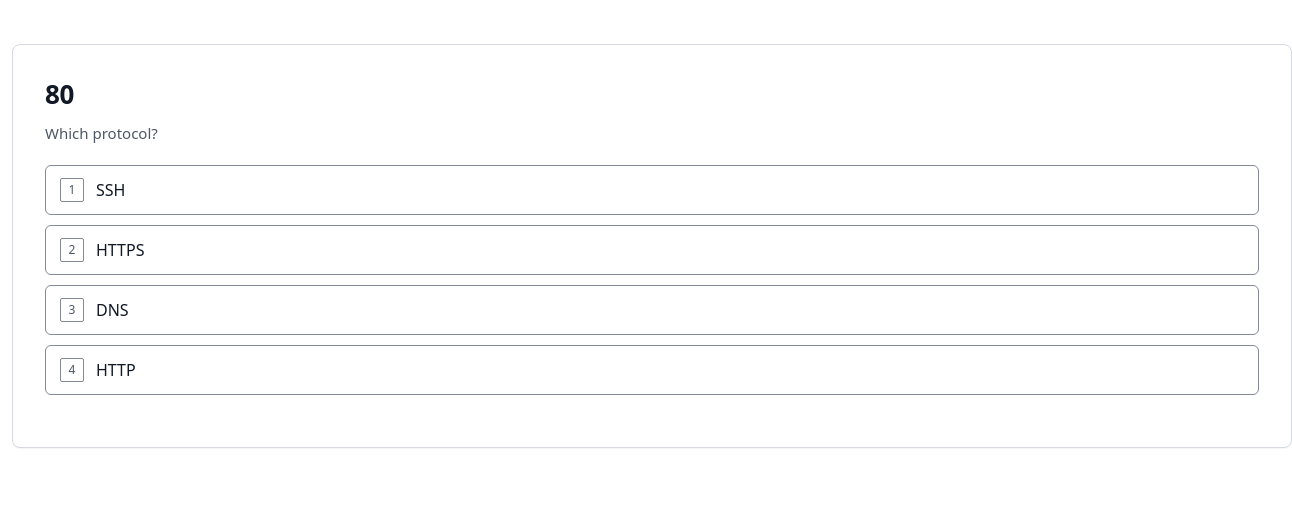
it: RecallPlayer, a choice of answers › counts correct answers in plain words, with no streak
Step 1. Click the button "4 HTTP" → (116, 370), box [45,345,1259,395]
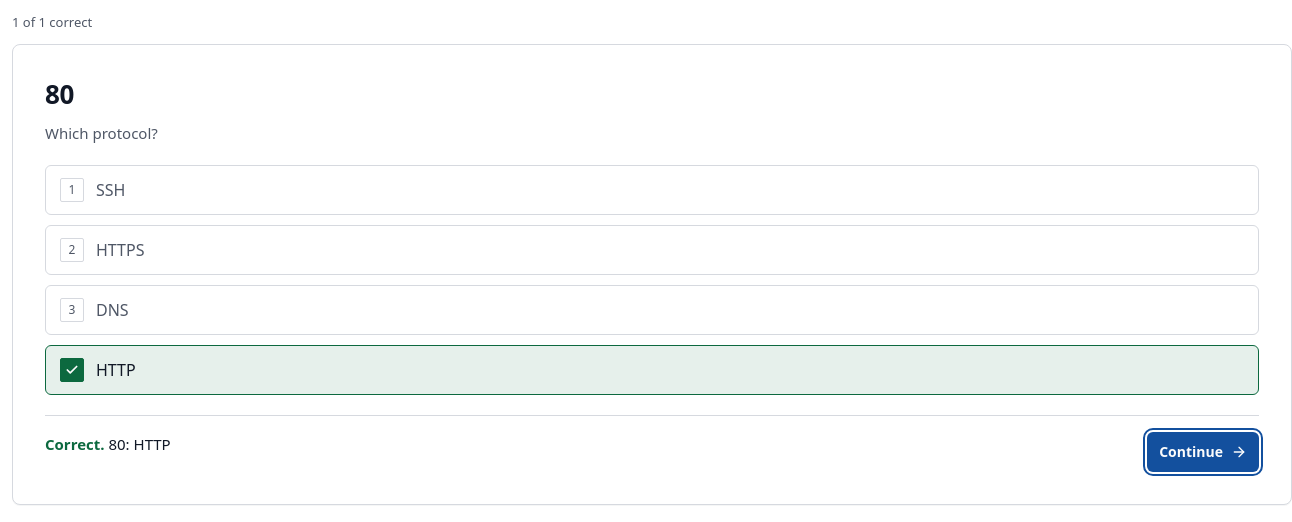
Now the text "1 of 1 correct" is shown, box [12,13,92,31]
Step 2. Click the button "Continue" → (1203, 452), box [1147,432,1259,472]
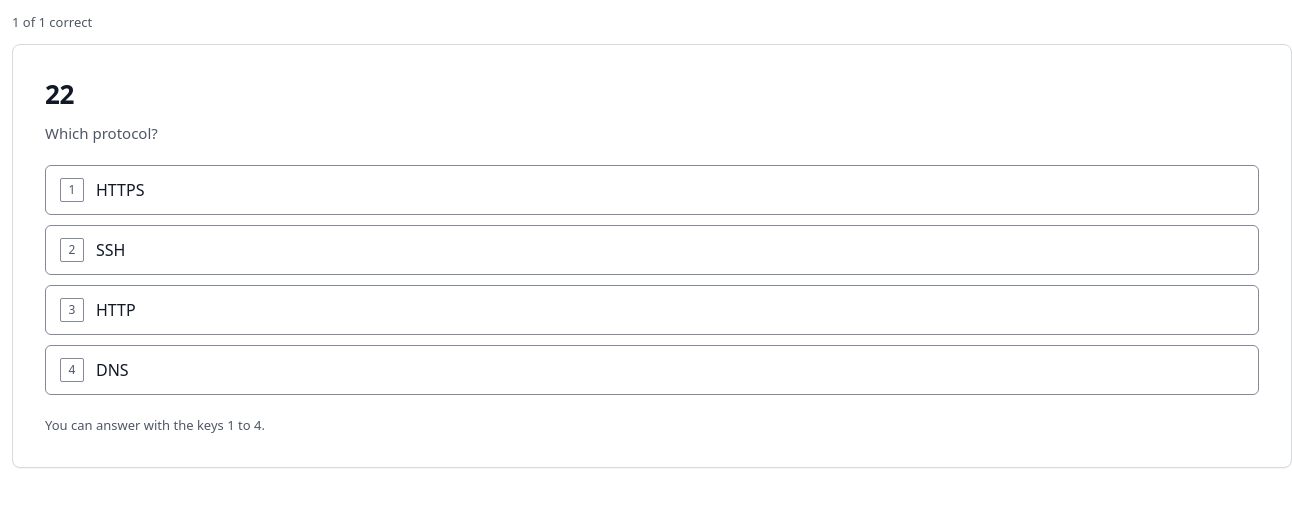
Step 3. Click the button "1 HTTPS" → (120, 190), box [45,165,1259,215]
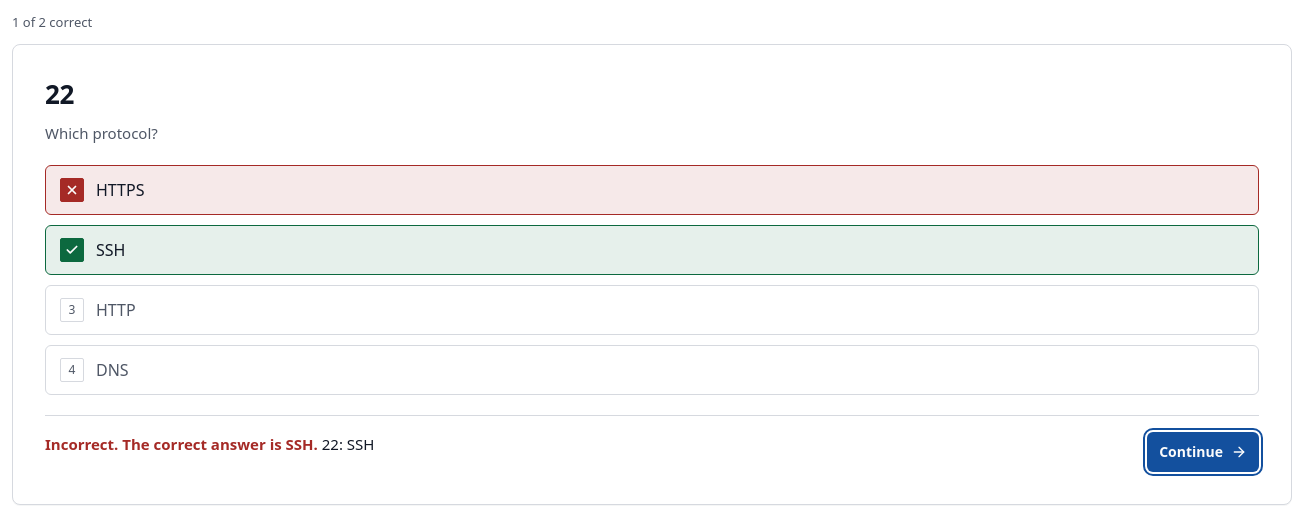
Now the text "1 of 2 correct" is shown, box [12,13,92,31]
